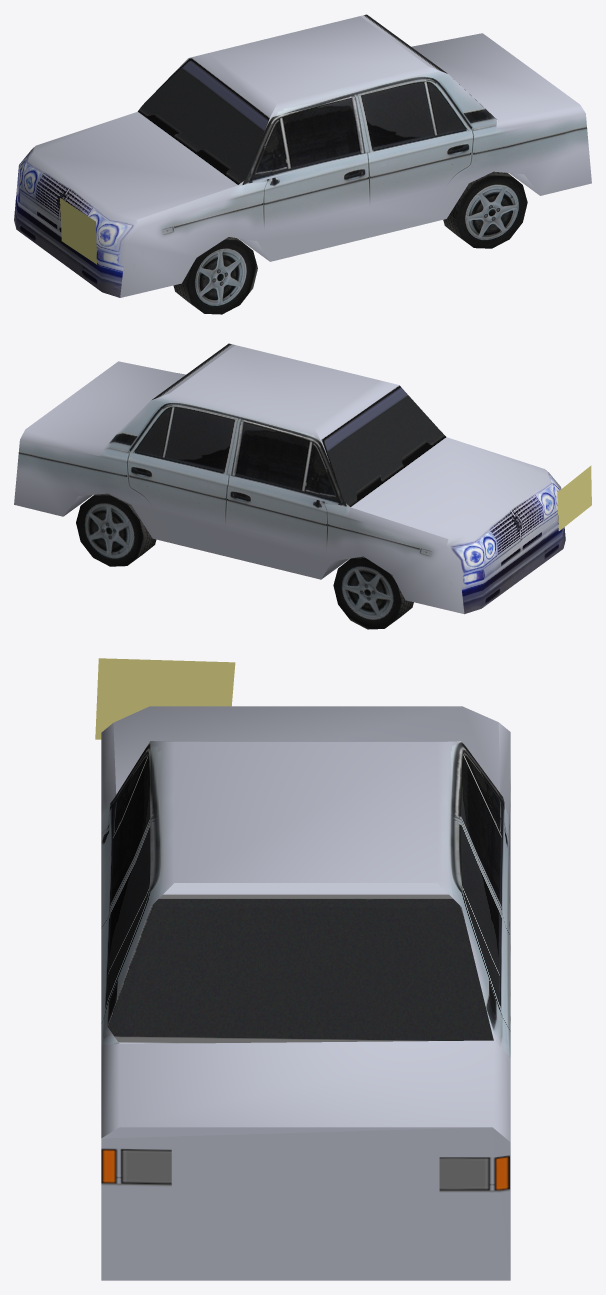
3 renders of one model, top to bottom at view 1: azimuth 30°, elevation 25°; view 2: azimuth 150°, elevation 25°; view 3: azimuth 270°, elevation 25°, orthographic. The views are drawn at different scales.
Parts seen in each view (by area): view 1: pickup, light; view 2: pickup, light; view 3: pickup, light.
Boxes of the visible parts, x1,y1,x2,y2 form: pickup: (14,14,591,314); light: (60,198,96,264); pickup: (14,343,565,629); light: (557,465,591,530); pickup: (101,706,510,1280); light: (95,658,235,739).
Size of the model in its own units: 475 by 166 by 180.
